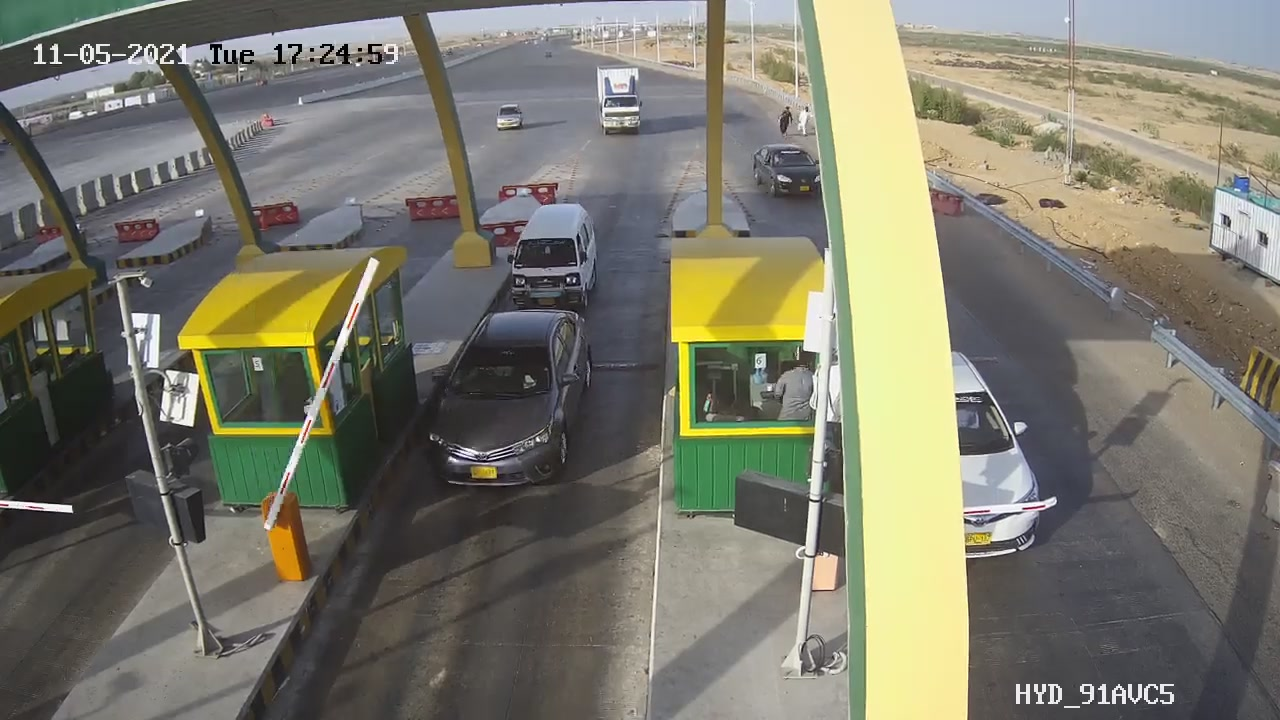F1: (407, 294, 608, 513), (487, 191, 622, 325)
